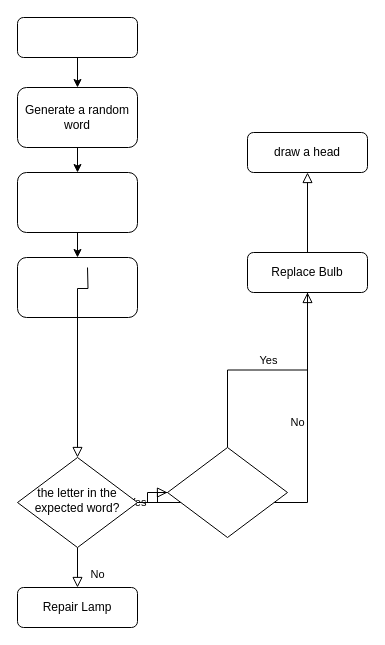
Image size: 385x645. Some labels were removed from this diagram. Each missing label, with the centre of its shape:
"Bulb burned out?" goes at point (227, 492).
"Generate as many blanks as letters in word" goes at point (77, 202).
"START" goes at point (77, 37).
